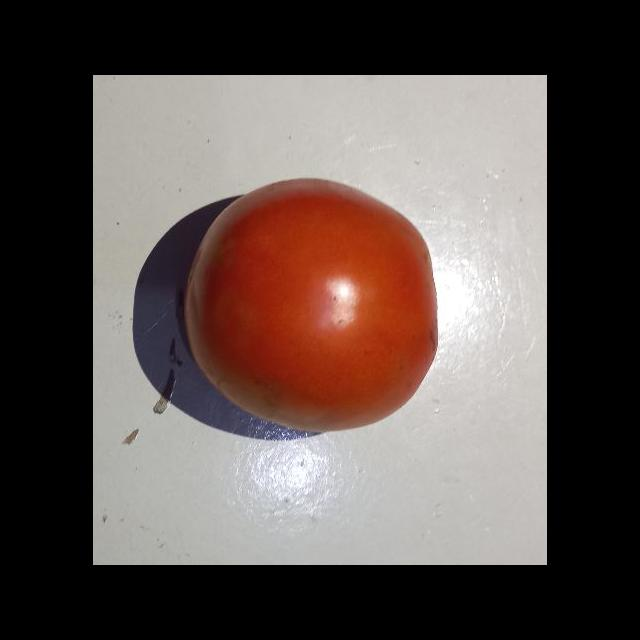tomato: (199, 169, 451, 428)
